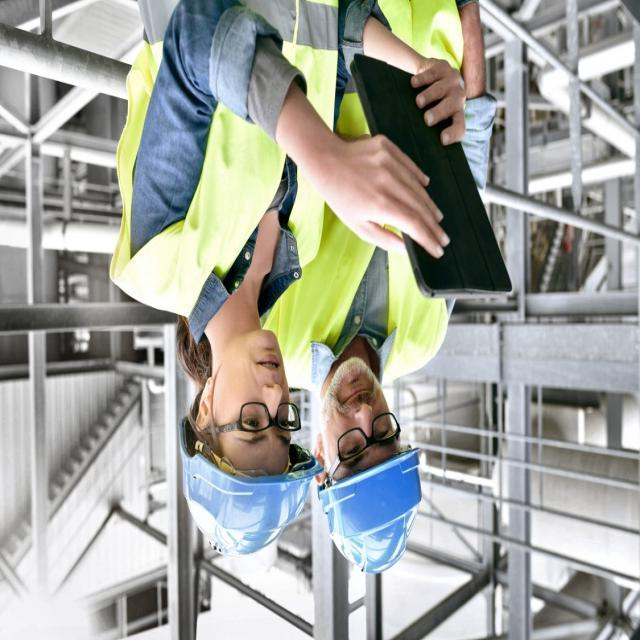safetyhelmet: (179, 418, 321, 555), (318, 449, 420, 572)
